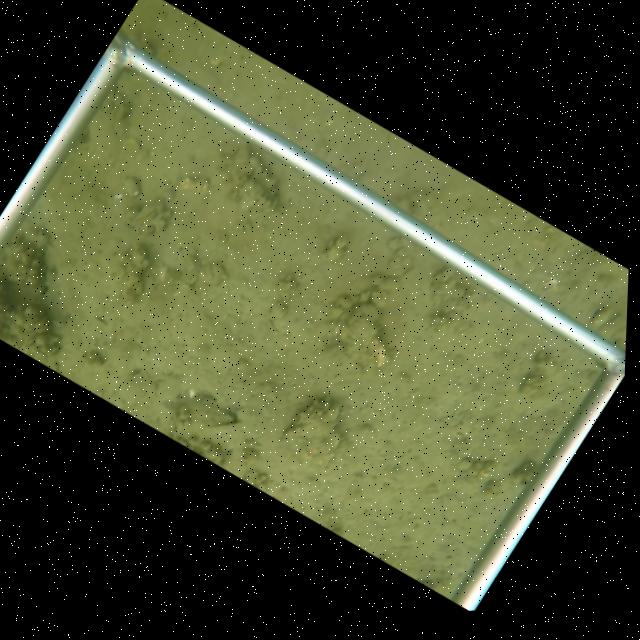Oyster-Closed: (130, 204, 158, 227)
Oyster-Indeterminate: (273, 391, 342, 470), (331, 298, 383, 345)
Oyster-Open: (204, 414, 243, 437)
